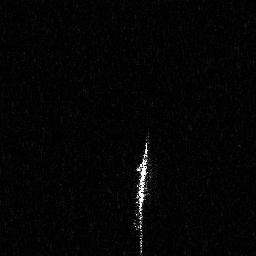ship: (131, 132, 155, 256)
